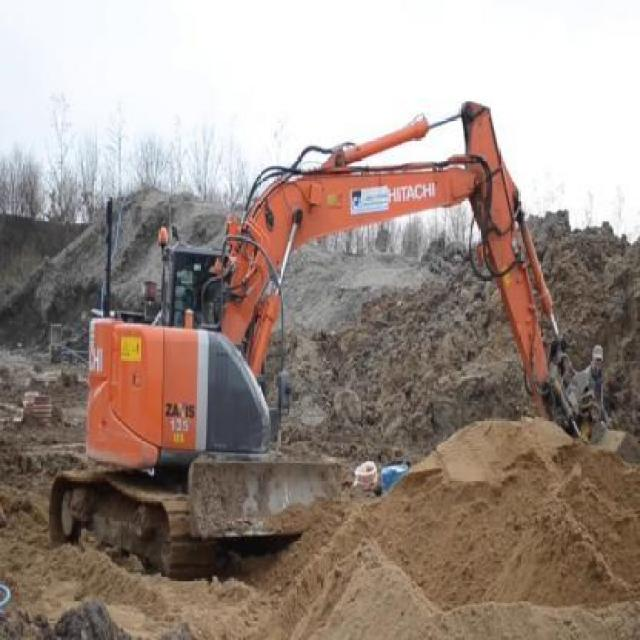Excavator: (36, 91, 612, 577)
